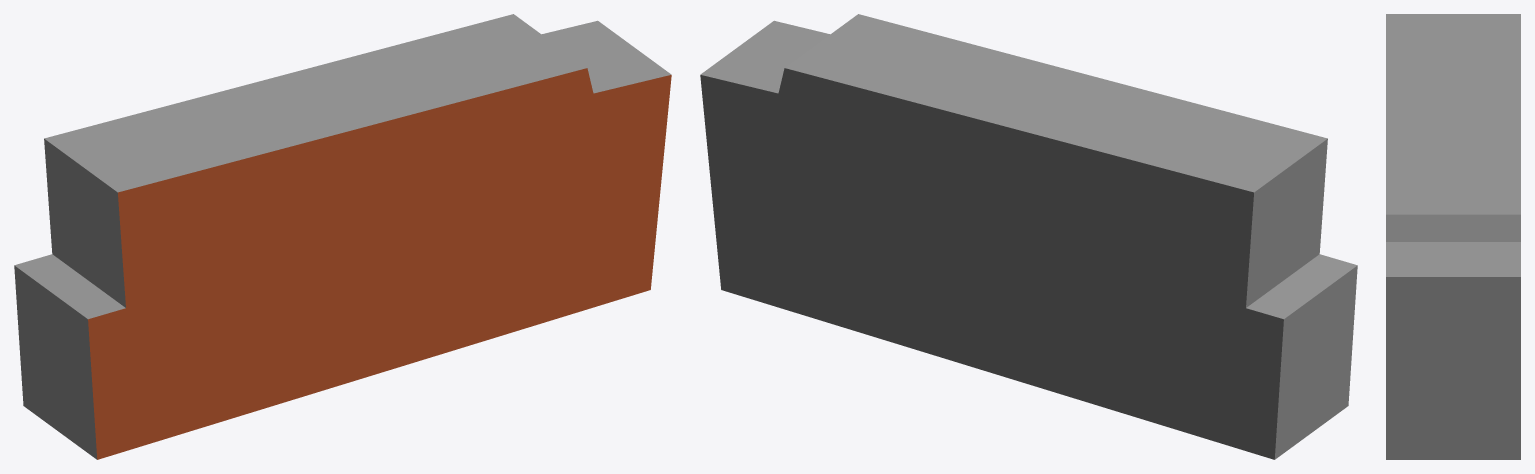
File: construction_2016_assumed_A_Casa_h6m.obj
3 renders of one model, left to right at view 1: azimuth 30°, elevation 25°; view 2: azimuth 150°, elevation 25°; view 3: azimuth 270°, elevation 25°, orthographic. The views are drawn at different scales.
Visible parts, largest first — view 1: construction_2016_assumed_A_Casa; view 2: construction_2016_assumed_A_Casa; view 3: construction_2016_assumed_A_Casa.
Part boxes in pixels (x1=…): construction_2016_assumed_A_Casa: x1=14, y1=14, x2=671, y2=459; construction_2016_assumed_A_Casa: x1=700, y1=14, x2=1357, y2=459; construction_2016_assumed_A_Casa: x1=1386, y1=14, x2=1520, y2=459.
Bounding box in the file's own units: 27.4 × 12.22 × 6.
